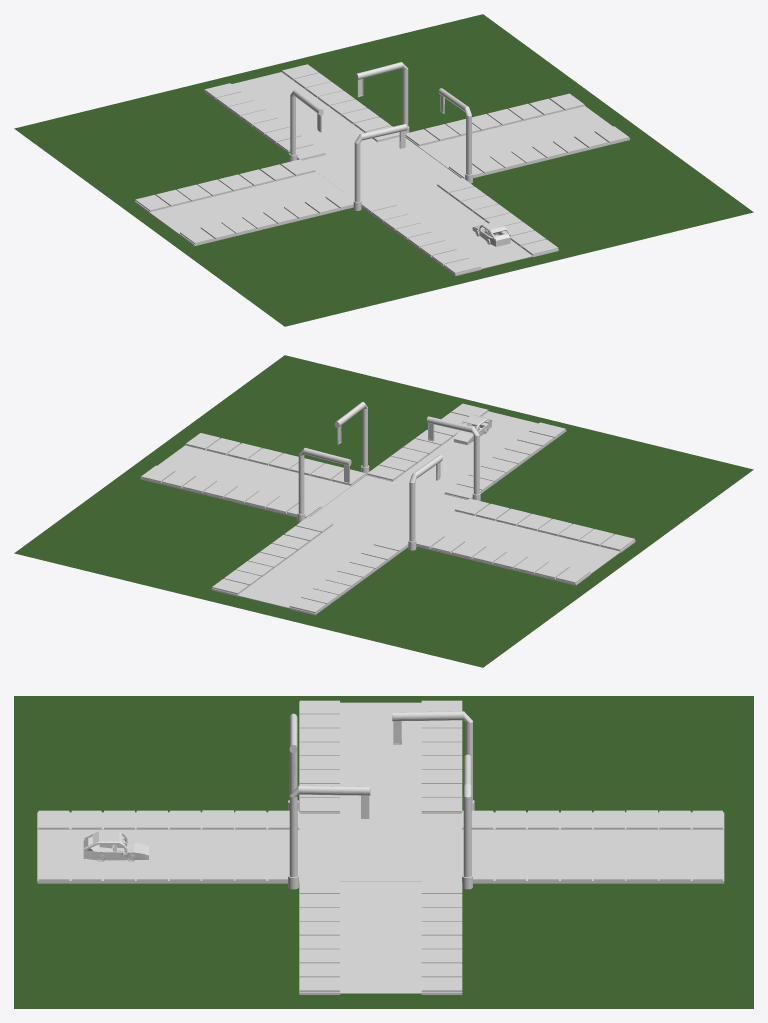
Rendered from CarScene.fbx.
3 renders of one model, top to bottom at view 1: azimuth 30°, elevation 25°; view 2: azimuth 150°, elevation 25°; view 3: azimuth 270°, elevation 25°, orthographic. The views are drawn at different scales.
Visible parts, largest first — view 1: Plane, Cube.018, Cube.012, Cube.016, Cube.011, Cube.004, Cube.015, Cube.008, Cube.003, Cube.010, Cube.007, Cube.014 (+11 smaller); view 2: Plane, Cube.018, Cube.011, Cube.015, Cube.012, Cube.008, Cube.007, Cube.016, Cube.004, Cube.013, Cube.006, Cube.017 (+11 smaller); view 3: Plane, Cube.018, Cube.003, Cube.007, Cube.004, Cube.008, Cube.016, Cube.015, Cube.009, Cube.014, Cube.017, Cube.011 (+11 smaller).
Part boxes in pixels (x1,y1,x2,y2): Plane: (14,14,753,326); Cube.018: (303,137,460,202); Cube.012: (179,192,354,246); Cube.016: (448,126,629,178); Cube.011: (134,159,315,213); Cube.004: (361,196,481,275); Cube.015: (405,93,584,146); Cube.008: (204,83,325,160); Cube.003: (436,178,558,257); Cube.010: (149,172,330,223); Cube.007: (281,64,399,142); Cube.014: (419,106,599,157); Plane: (14,355,753,667); Cube.018: (309,475,466,541); Cube.011: (415,531,590,585); Cube.015: (140,465,321,518); Cube.012: (454,498,635,552); Cube.008: (289,536,408,615); Cube.007: (211,517,333,596); Cube.016: (185,433,366,485); Cube.004: (444,422,566,499); Cube.013: (439,511,620,562); Cube.006: (237,525,358,601); Cube.017: (170,445,351,496); Plane: (14,696,753,1008); Cube.018: (299,813,461,881); Cube.003: (37,862,300,883); Cube.007: (461,862,724,883); Cube.004: (37,810,300,829); Cube.008: (461,810,724,829); Cube.016: (299,880,340,994); Cube.015: (421,880,462,994); Cube.009: (461,830,724,847); Cube.014: (381,882,421,993); Cube.017: (340,882,380,993); Cube.011: (421,700,462,813).
Size of the model in its own units: 27626 by 4183 by 27626.
